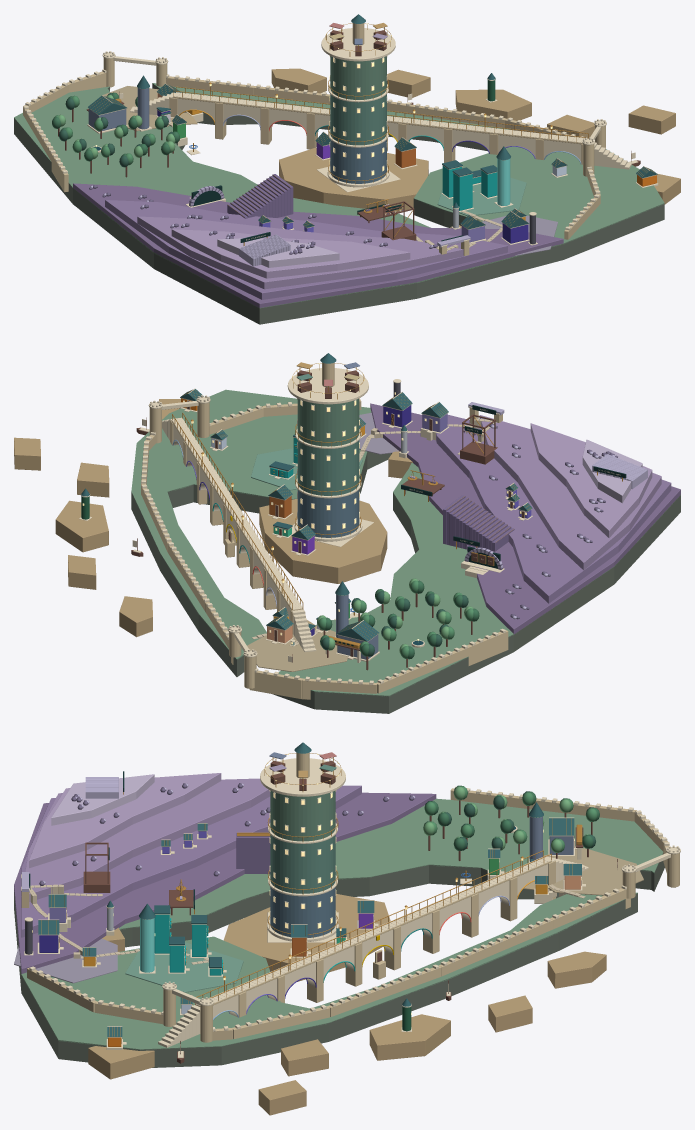
File: kontextia-stadt-live.glb
The picture shows the model from 3 angles, top to bottom: view 1: azimuth 30°, elevation 25°; view 2: azimuth 150°, elevation 25°; view 3: azimuth 270°, elevation 25°; orthographic projection. The views are drawn at different scales.
Visible parts, largest first — view 1: Meadow surface, Canonical coast, Mountain terrace 00, Mountain terrace 01, bridge__nine-arch-bridge__Carved pale stone, L09__terrain__Sandy shore, Mountain terrace 02, walls__city-wall__Honey limestone, turminsel bed, Mountain terrace 03, bridge__nine-arch-bridge__Honey limestone, Continuous L04 tower storey (+19 smaller); view 2: Meadow surface, Canonical coast, Mountain terrace 00, Mountain terrace 01, Mountain terrace 02, L09__terrain__Sandy shore, walls__city-wall__Honey limestone, turminsel bed, bridge__nine-arch-bridge__Carved pale stone, Mountain terrace 03, Continuous L04 tower storey, bridge__nine-arch-bridge__Honey limestone (+17 smaller); view 3: Meadow surface, Canonical coast, L09__terrain__Sandy shore, Mountain terrace 00, walls__city-wall__Honey limestone, bridge__nine-arch-bridge__Carved pale stone, Mountain terrace 02, Mountain terrace 01, Mountain terrace 03, bridge__nine-arch-bridge__Honey limestone, turminsel bed, Continuous L04 tower storey (+21 smaller).
Boxes of the visible parts, x1,y1,x2,y2 form: Meadow surface: (14,83,664,308); Canonical coast: (14,83,664,324); Mountain terrace 00: (73,183,563,307); Mountain terrace 01: (105,200,507,299); bridge__nine-arch-bridge__Carved pale stone: (130,92,631,169); L09__terrain__Sandy shore: (271,68,680,204); Mountain terrace 02: (137,216,463,289); walls__city-wall__Honey limestone: (23,71,600,239); turminsel bed: (279,148,428,211); Mountain terrace 03: (171,229,410,278); bridge__nine-arch-bridge__Honey limestone: (169,96,582,164); Continuous L04 tower storey: (330,94,386,145); Meadow surface: (131,389,680,696); Canonical coast: (131,452,680,713); Mountain terrace 00: (370,403,680,634); Mountain terrace 01: (436,415,671,603); Mountain terrace 02: (479,415,661,570); L09__terrain__Sandy shore: (14,399,180,637); walls__city-wall__Honey limestone: (141,399,508,699); turminsel bed: (259,499,387,583); bridge__nine-arch-bridge__Carved pale stone: (162,417,316,652); Mountain terrace 03: (530,423,652,537); Continuous L04 tower storey: (297,440,359,495); bridge__nine-arch-bridge__Honey limestone: (170,420,305,633); Meadow surface: (20,798,663,1050); Canonical coast: (14,853,664,1067); L09__terrain__Sandy shore: (88,951,606,1115); Mountain terrace 00: (14,792,436,973); walls__city-wall__Honey limestone: (27,788,675,1040); bridge__nine-arch-bridge__Carved pale stone: (158,856,588,1047); Mountain terrace 02: (21,778,270,904); Mountain terrace 01: (21,785,361,937); Mountain terrace 03: (29,773,221,868); bridge__nine-arch-bridge__Honey limestone: (195,860,555,1017); turminsel bed: (223,894,390,981); Continuous L04 tower storey: (270,835,335,893).
Size of what is drawn, in the model's own units: 96.48 by 30.34 by 90.
